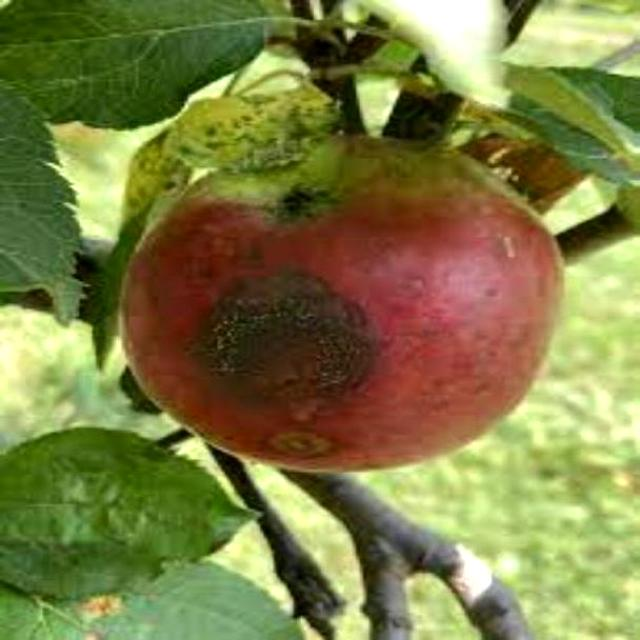SCAB: (94, 99, 597, 479)
